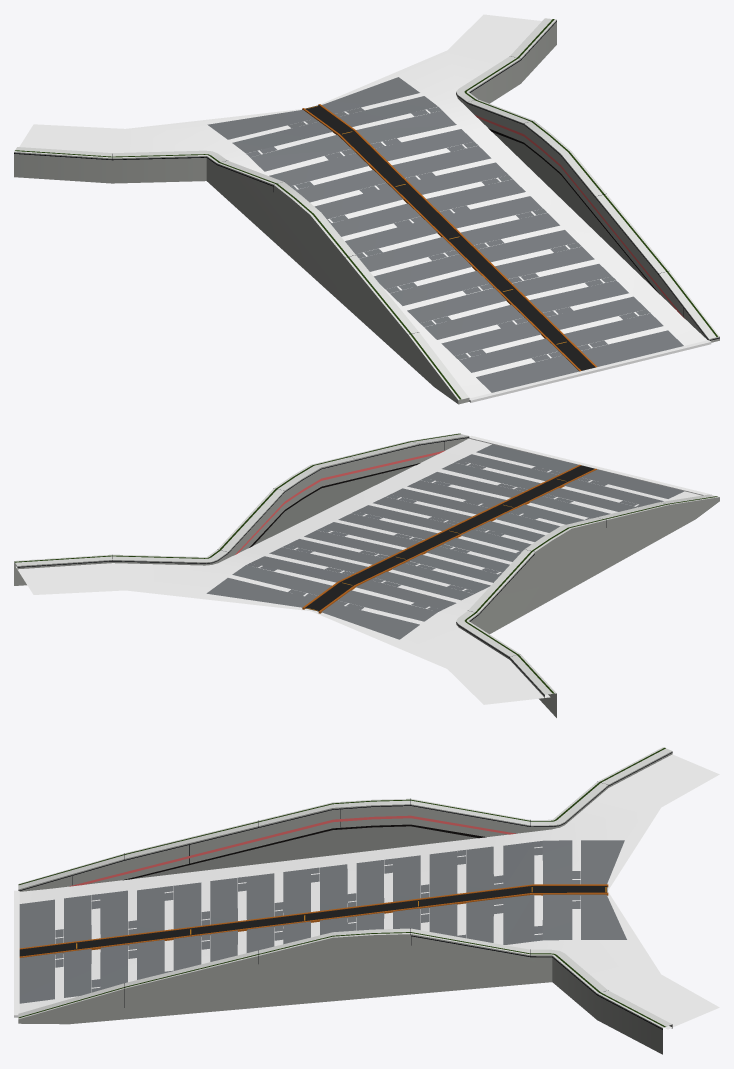
The model's file is R0_Park_Center_road_L1.fbx.
3 renders of one model, top to bottom at view 1: azimuth 30°, elevation 25°; view 2: azimuth 150°, elevation 25°; view 3: azimuth 270°, elevation 25°, orthographic. The views are drawn at different scales.
Visible parts, largest first — view 1: R0_Park_Center_road_L1; view 2: R0_Park_Center_road_L1; view 3: R0_Park_Center_road_L1.
Part boxes in pixels (bbox=[...]): R0_Park_Center_road_L1: bbox=[14, 14, 719, 404]; R0_Park_Center_road_L1: bbox=[14, 433, 719, 717]; R0_Park_Center_road_L1: bbox=[14, 747, 719, 1054].
Bounding box in the file's own units: 22.53 × 3.37 × 23.9.
